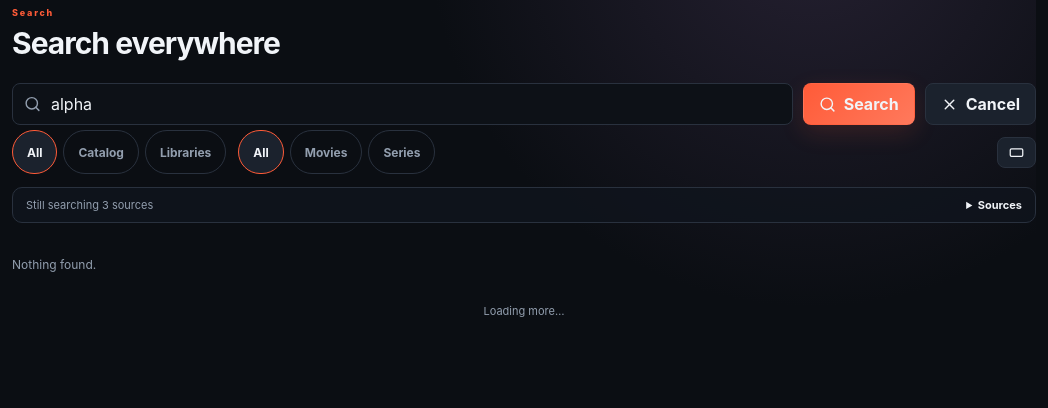
Scenario: SearchEverywhere › renders source states and offers Retry only for retryable sources
Expected: the message "Still searching 3 sources" is shown, [26, 198, 153, 212]
Click the heading "Sources" at (1000, 205), box [978, 198, 1022, 212]
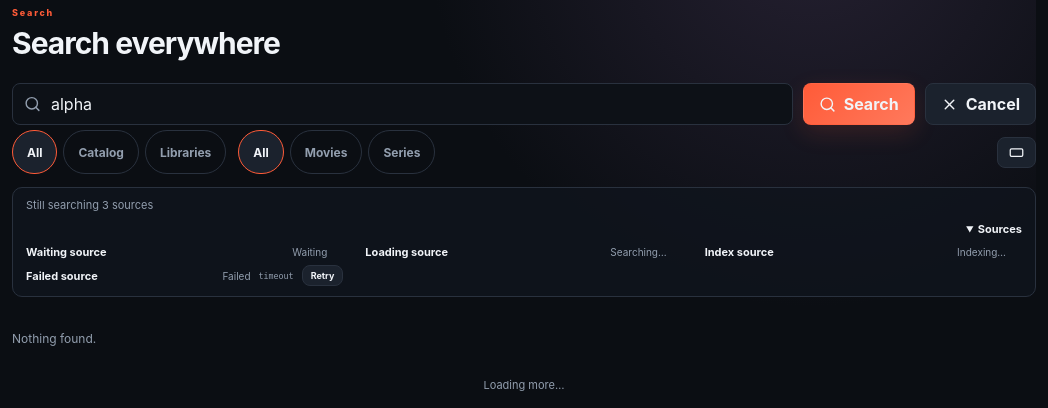
Expected: the text "Waiting" is shown, [26, 245, 107, 259]
Expected: the text "Searching…" is shown, [610, 246, 667, 258]
Expected: the text "Indexing…" is shown, [957, 246, 1006, 258]
